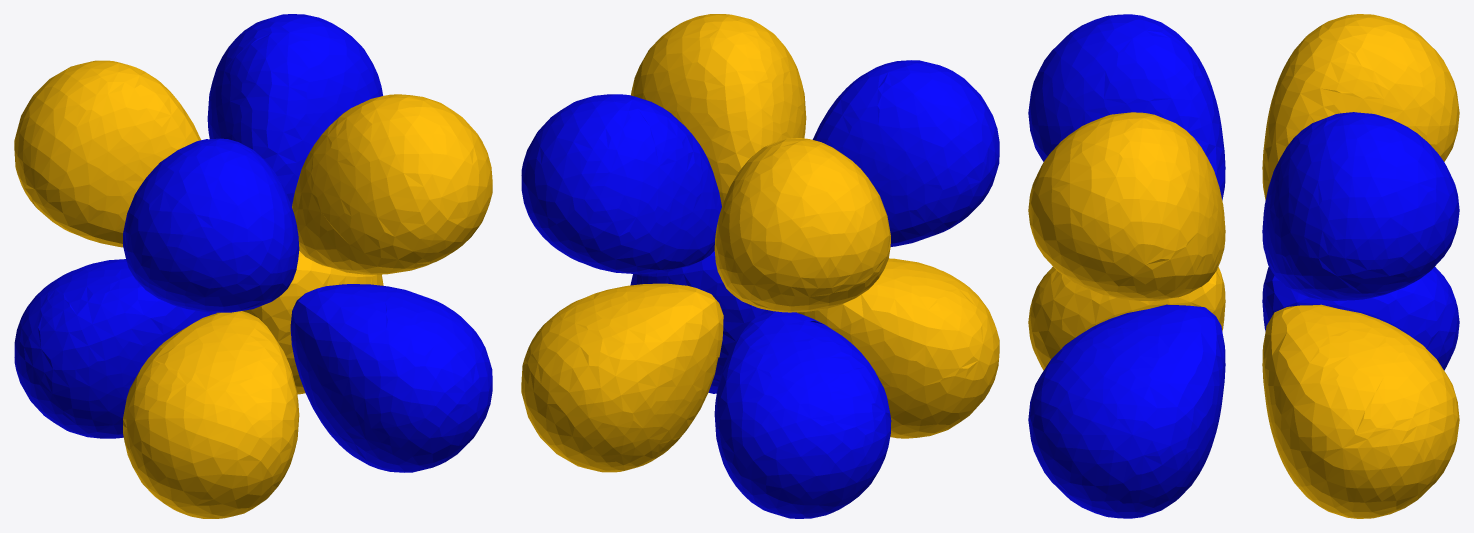
3 renders of one model, left to right at view 1: azimuth 30°, elevation 25°; view 2: azimuth 150°, elevation 25°; view 3: azimuth 270°, elevation 25°, orthographic. The views are drawn at different scales.
Size of the model in its own units: 18.62 by 18.62 by 18.63.
